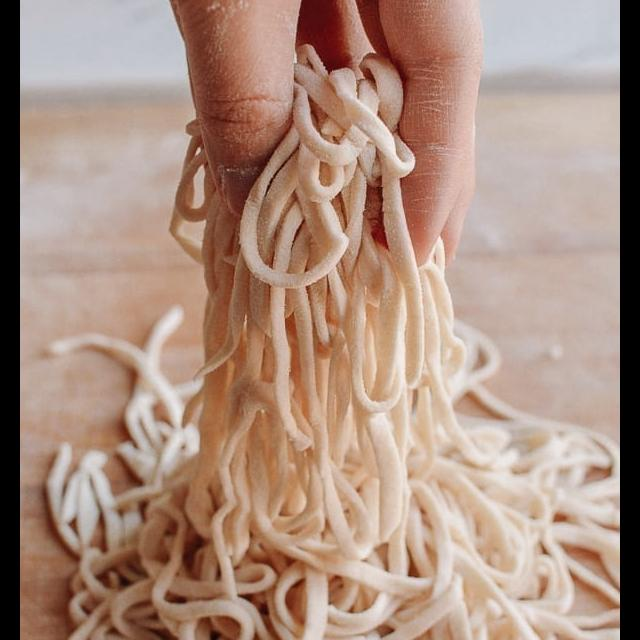noodles: (68, 89, 589, 640)
